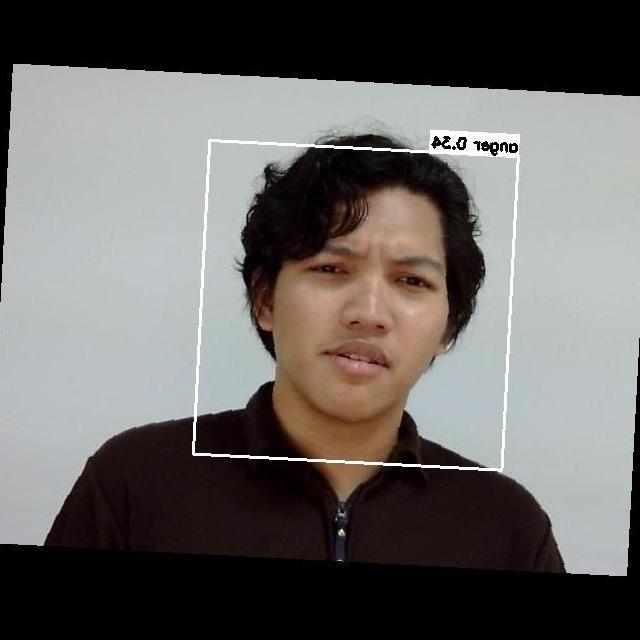Fear: (275, 211, 465, 411)
